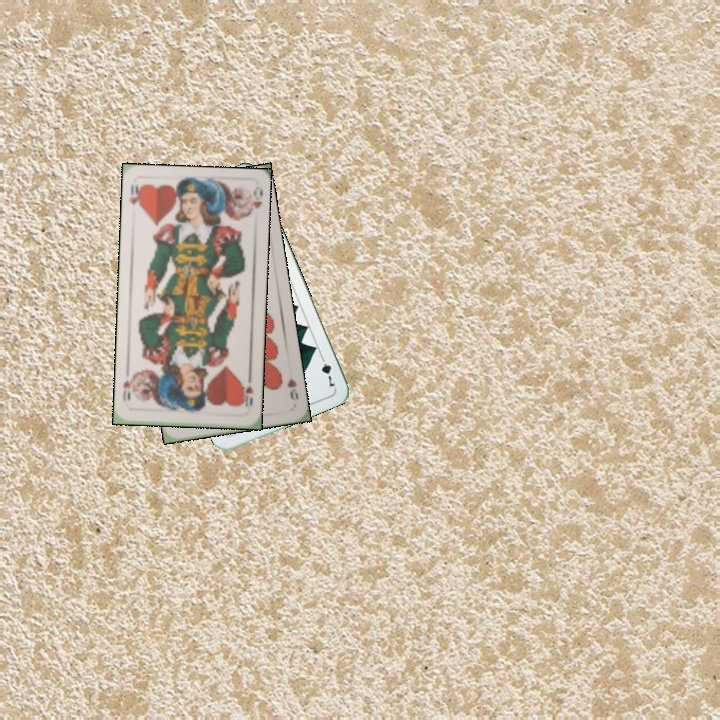G7: (316, 351, 338, 390)
H9: (283, 375, 301, 403)
HO: (238, 372, 255, 409), (125, 180, 145, 211)
